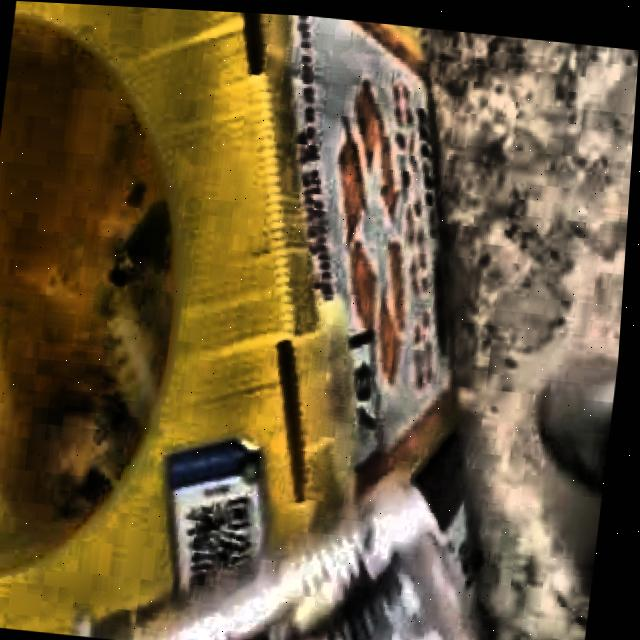plastic: (85, 478, 486, 640)
